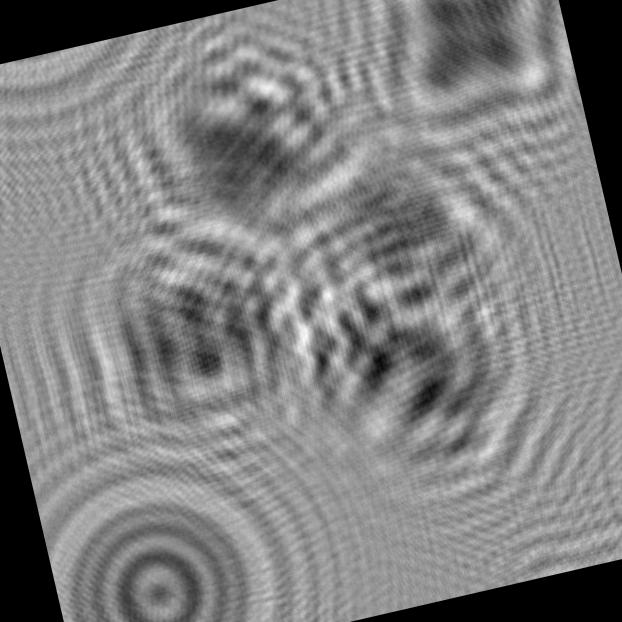H: (23, 168, 370, 506)
K: (85, 0, 432, 300)
M: (280, 235, 562, 514)
O: (26, 399, 344, 622)
T: (262, 96, 549, 368)
X: (323, 0, 592, 198)
